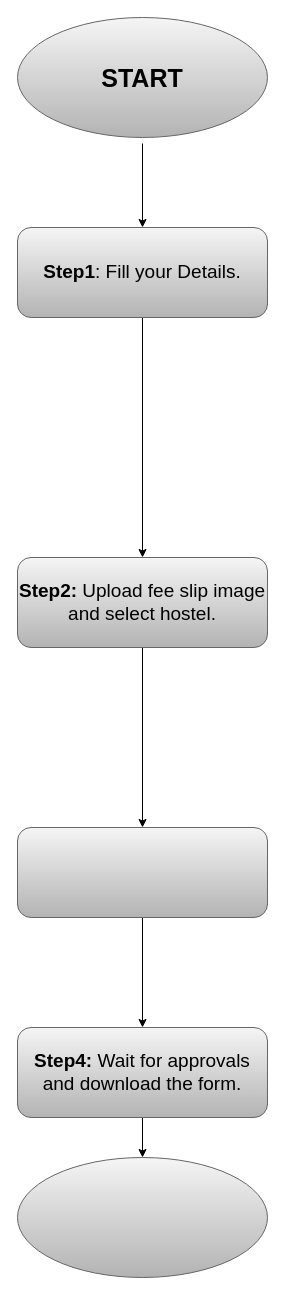
This 285x1295 diagram has some shape labels left out. The shapes that lost their labels are listed below. From the top down, each one's box as (x1, y1, x2, y2) in pixels, then its label:
(16, 826, 268, 918): Step3: Select Courses.
(16, 1156, 268, 1278): END
